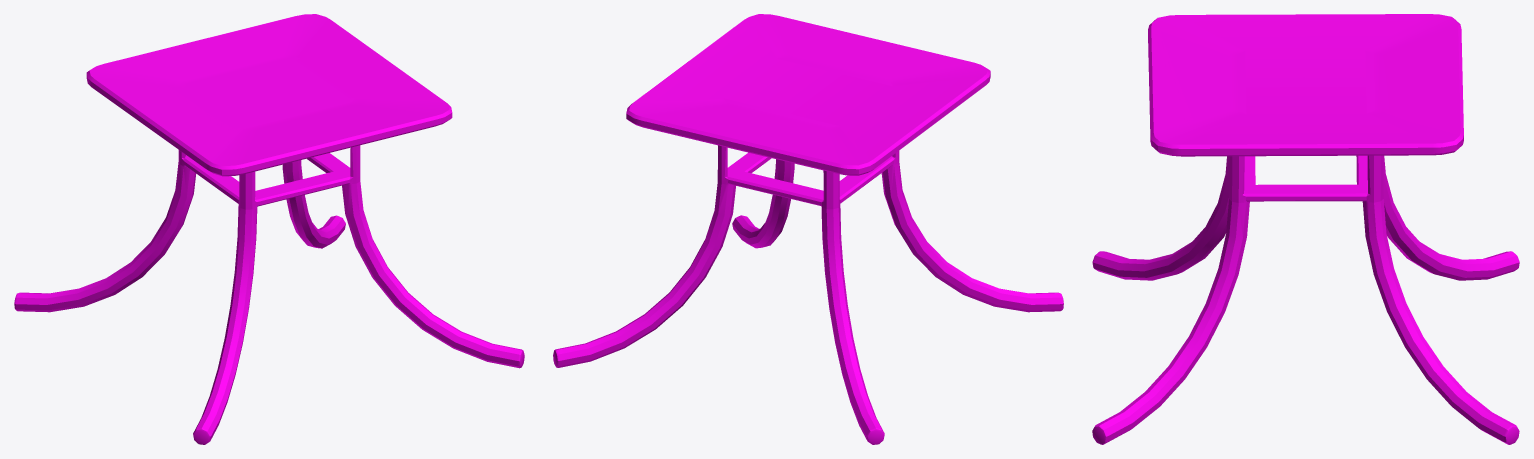
File: table 3 var 2.fbx
The picture shows the model from 3 angles, left to right: view 1: azimuth 30°, elevation 25°; view 2: azimuth 150°, elevation 25°; view 3: azimuth 270°, elevation 25°; orthographic projection. The views are drawn at different scales.
Visible parts, largest first — view 1: table_3_var_2; view 2: table_3_var_2; view 3: table_3_var_2.
Part boxes in pixels (x1=…): table_3_var_2: x1=14, y1=14, x2=524, y2=444; table_3_var_2: x1=553, y1=14, x2=1063, y2=444; table_3_var_2: x1=1092, y1=14, x2=1519, y2=444.
Bounding box in the file's own units: 0.987 × 0.7077 × 0.987.
